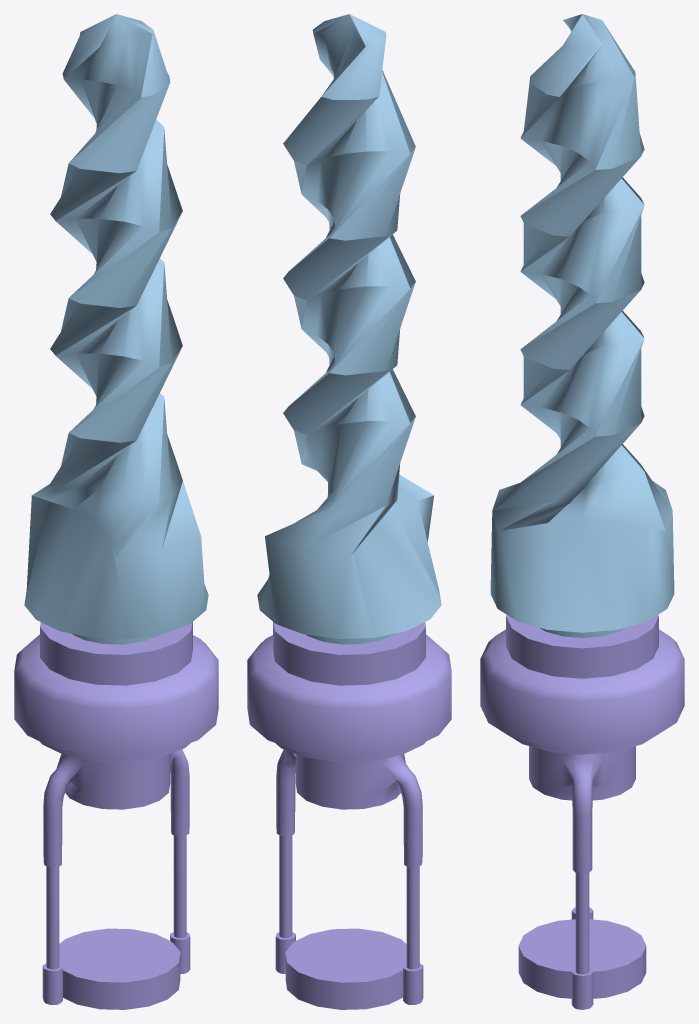
File: DrillArm.fbx
The picture shows the model from 3 angles, left to right: view 1: azimuth 30°, elevation 25°; view 2: azimuth 150°, elevation 25°; view 3: azimuth 270°, elevation 25°; orthographic projection.
Visible parts, largest first — view 1: Cylinder; view 2: Cylinder; view 3: Cylinder.
Boxes of the visible parts, x1,y1,x2,y2 form: Cylinder: [14, 14, 218, 1009]; Cylinder: [247, 14, 451, 1009]; Cylinder: [480, 14, 684, 1009].
Bounding box in the file's own units: 222 × 1154 × 222.
